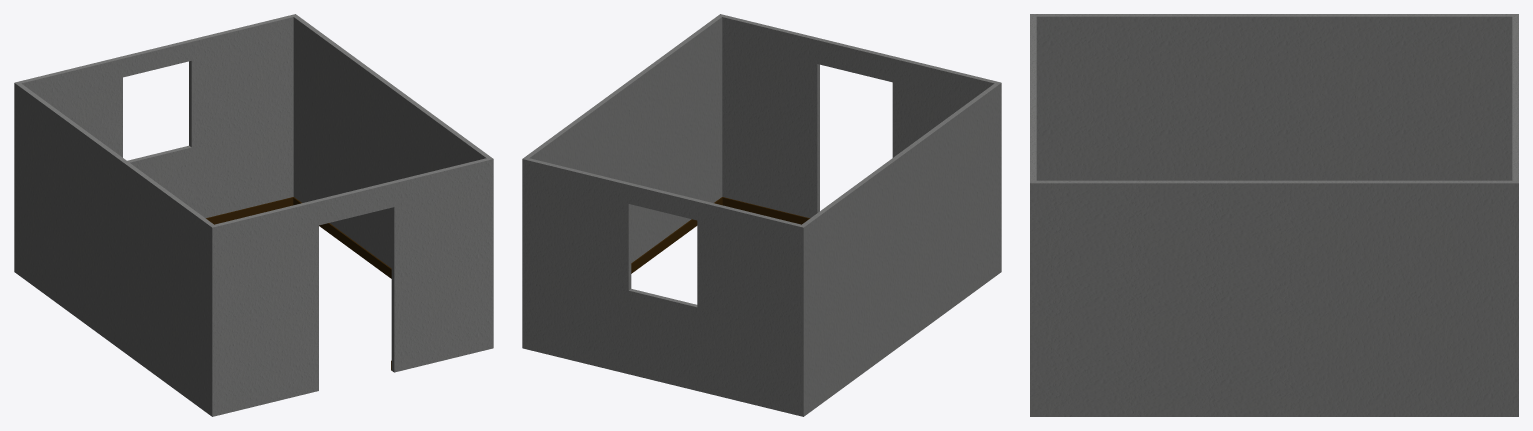
Rendered from Room_036_cf3aa777.obj.
The picture shows the model from 3 angles, left to right: view 1: azimuth 30°, elevation 25°; view 2: azimuth 150°, elevation 25°; view 3: azimuth 270°, elevation 25°; orthographic projection. The views are drawn at different scales.
Visible parts, largest first — view 1: Room.036_cf3aa777; view 2: Room.036_cf3aa777; view 3: Room.036_cf3aa777.
Part boxes in pixels (<box>): Room.036_cf3aa777: <box>14,14,493,416</box>; Room.036_cf3aa777: <box>522,14,1001,416</box>; Room.036_cf3aa777: <box>1030,14,1518,416</box>.
Size of the model in its own units: 3.73 by 2.4 by 4.55.
